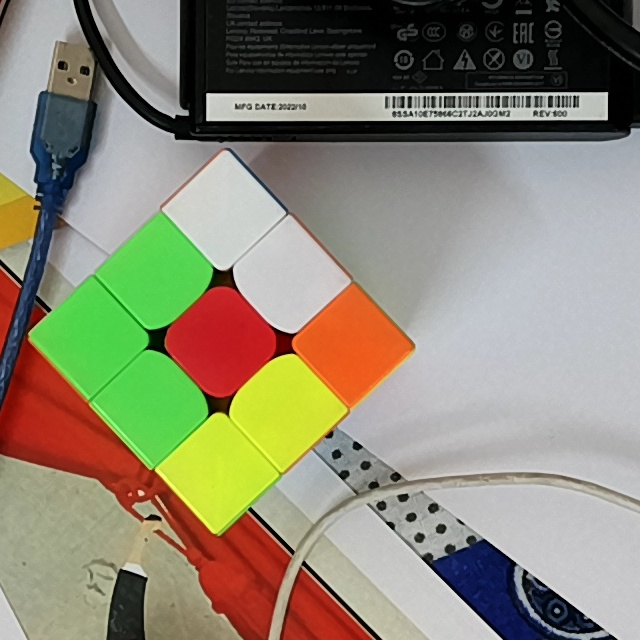tile: (257, 243, 320, 311), (120, 374, 184, 438), (190, 311, 252, 375), (320, 315, 384, 376), (192, 181, 253, 244), (125, 245, 188, 306), (62, 307, 120, 373), (253, 379, 316, 439), (185, 443, 250, 501)
